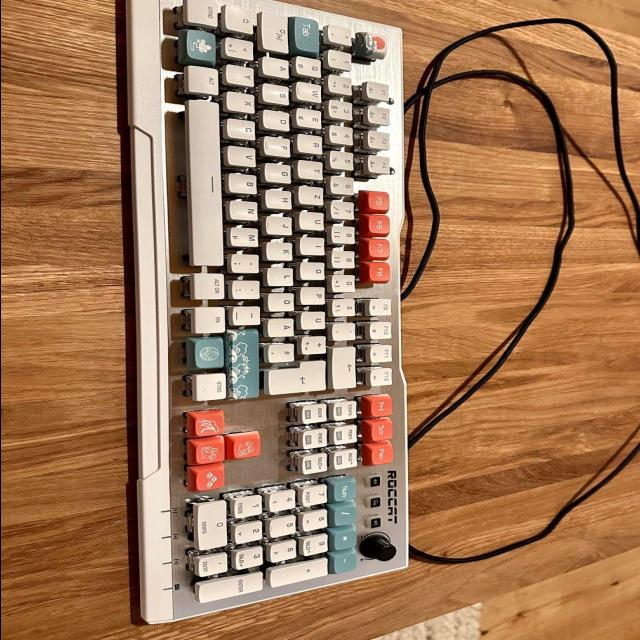0: (332, 272, 358, 292)
1: (329, 49, 355, 70)
2: (328, 73, 354, 94)
3: (329, 98, 355, 120)
4: (330, 123, 356, 144)
5: (330, 149, 356, 169)
6: (331, 174, 357, 195)
7: (331, 199, 357, 219)
8: (332, 223, 358, 244)
9: (332, 247, 358, 268)
a: (263, 56, 291, 78)
accent: (333, 321, 358, 339)
ae: (269, 317, 297, 337)
alt-left: (187, 63, 222, 94)
altgr-right: (194, 270, 228, 299)
b: (230, 172, 261, 194)
c: (229, 116, 259, 140)
caret: (329, 24, 355, 45)
comma: (232, 252, 262, 273)
d: (264, 108, 292, 130)
del: (333, 346, 358, 388)
e: (297, 106, 325, 128)
enter: (268, 358, 330, 394)
f: (265, 135, 293, 157)
g: (266, 161, 294, 183)
h: (267, 188, 295, 209)
hash: (268, 342, 297, 362)
i: (302, 235, 328, 255)
j: (268, 214, 296, 235)
k: (268, 239, 296, 260)
keyboard: (117, 0, 411, 625)
l: (268, 266, 296, 286)
less: (225, 36, 257, 60)
m: (231, 225, 261, 247)
minus: (234, 304, 263, 325)
n: (231, 199, 261, 221)
o: (302, 260, 328, 280)
oe: (269, 291, 297, 311)
p: (302, 286, 328, 304)
plus: (301, 334, 329, 354)
point: (233, 279, 262, 299)
q: (296, 54, 324, 77)
r: (299, 133, 325, 154)
s: (263, 82, 292, 104)
shift-left: (226, 3, 257, 33)
shift-lock: (263, 11, 291, 53)
shift-right: (231, 327, 263, 399)
space: (187, 97, 225, 267)
ss: (332, 297, 358, 317)
strg-left: (187, 0, 221, 27)
strg-right: (195, 371, 229, 401)
t: (300, 159, 326, 179)
tab: (296, 15, 322, 51)
u: (301, 210, 327, 230)
ue: (302, 309, 328, 329)
v: (229, 144, 259, 166)
w: (297, 80, 325, 102)
x: (228, 90, 258, 112)
y: (226, 63, 257, 85)
z: (300, 185, 326, 205)
